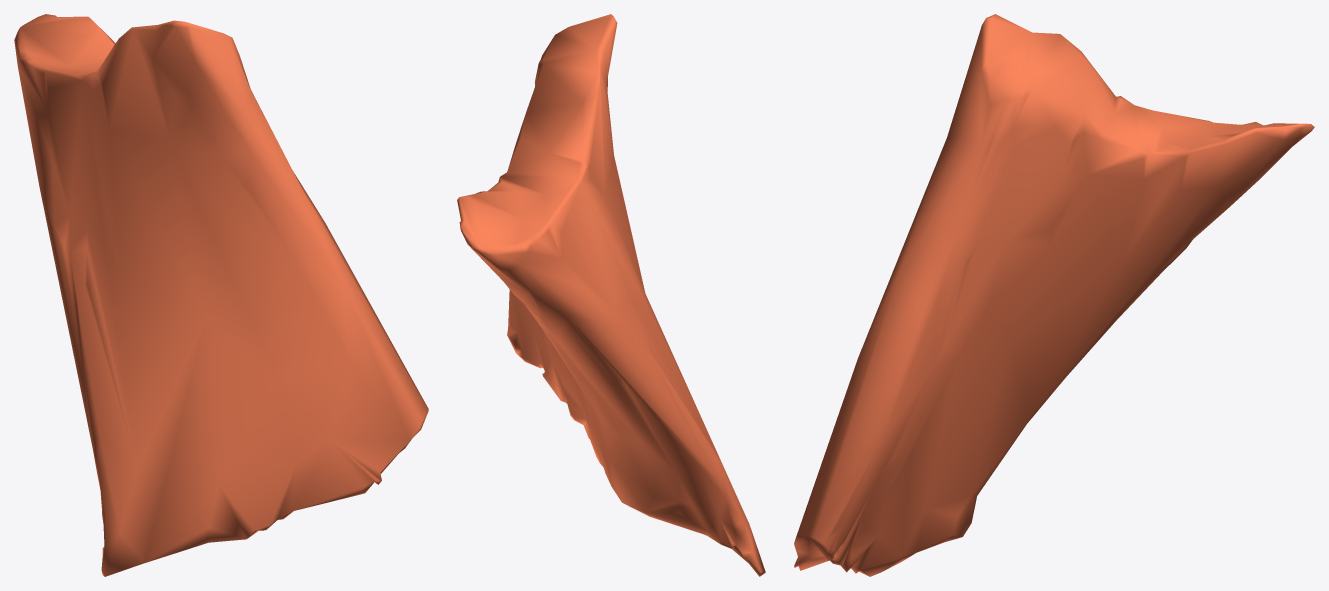
The model's file is Rectus_capitis_lateralis_right.glb.
3 renders of one model, left to right at view 1: azimuth 30°, elevation 25°; view 2: azimuth 150°, elevation 25°; view 3: azimuth 270°, elevation 25°, orthographic. The views are drawn at different scales.
Parts seen in each view (by area): view 1: Rectus_lateralis_capitis_muscle.r_Generated_Mesh_From_X3D.24; view 2: Rectus_lateralis_capitis_muscle.r_Generated_Mesh_From_X3D.24; view 3: Rectus_lateralis_capitis_muscle.r_Generated_Mesh_From_X3D.24.
Part boxes in pixels (x1,y1,x2,y2): Rectus_lateralis_capitis_muscle.r_Generated_Mesh_From_X3D.24: (14,14,428,576); Rectus_lateralis_capitis_muscle.r_Generated_Mesh_From_X3D.24: (457,14,765,576); Rectus_lateralis_capitis_muscle.r_Generated_Mesh_From_X3D.24: (794,14,1314,576).
Size of the model in its own units: 0.0123 by 0.0213 by 0.0174.
